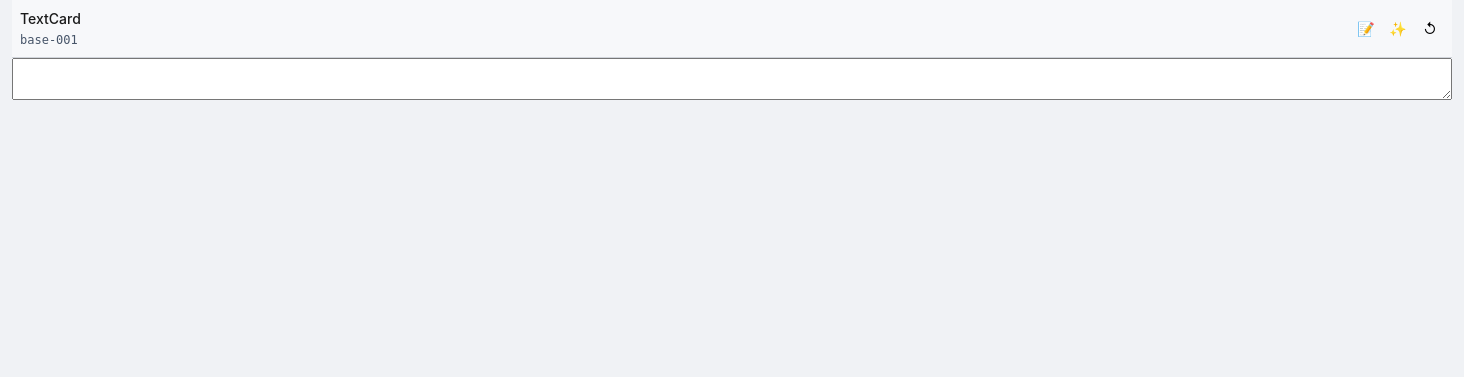
Test case: DefaultEditor › 模式切换 › 应该能从 JSON 模式切换回表单模式
This screenshot has width=1464, height=377.
Click the button with class "default-editor__btn--mode" at (1366, 28), box [1352,14,1380,42]
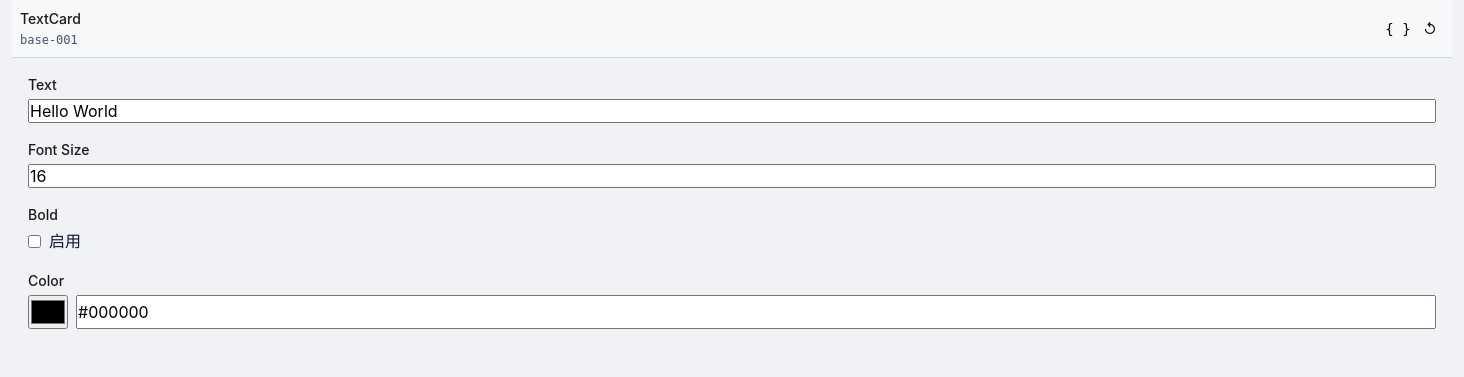
Result: the element with class "default-editor__form" is shown
